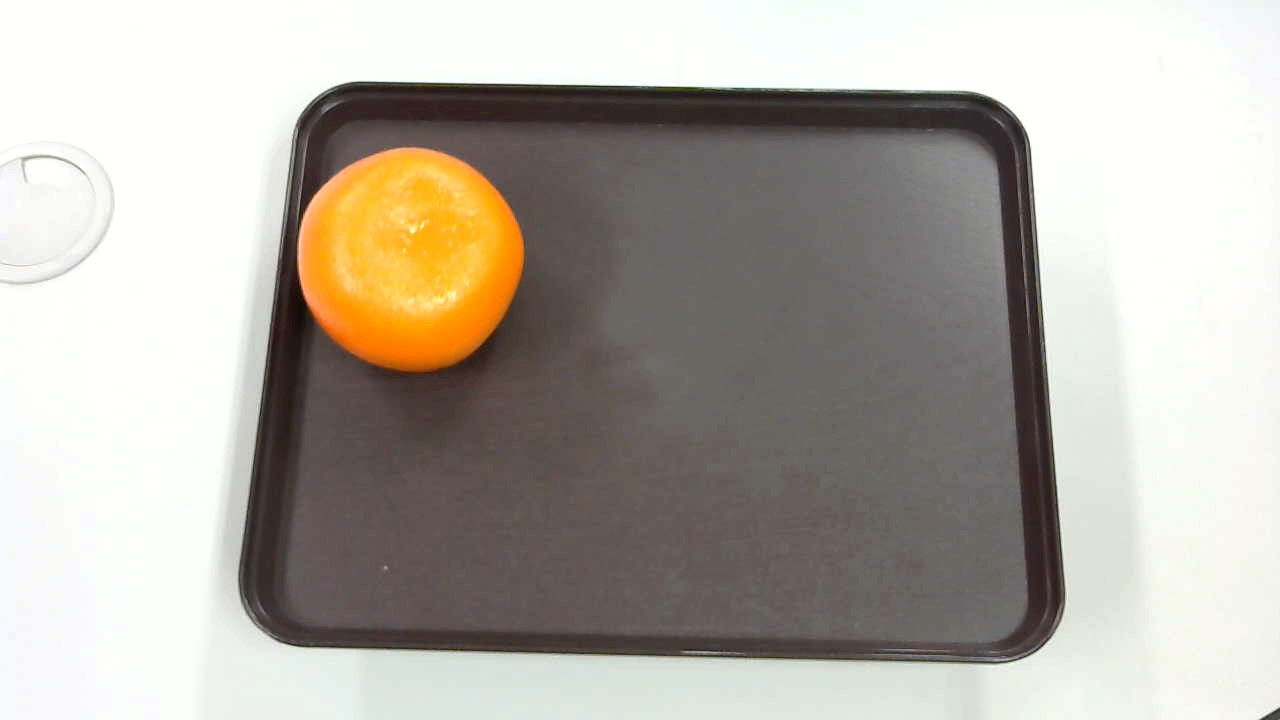orange: (286, 147, 529, 385)
